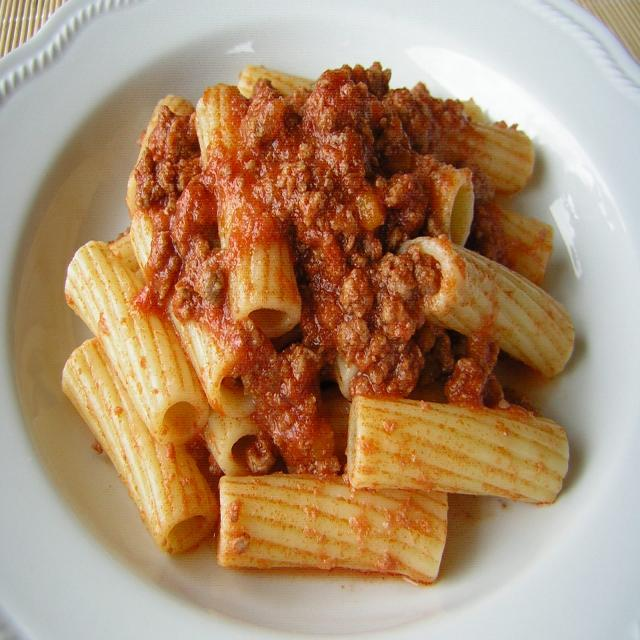Pasta al ragu: (51, 33, 608, 600)
